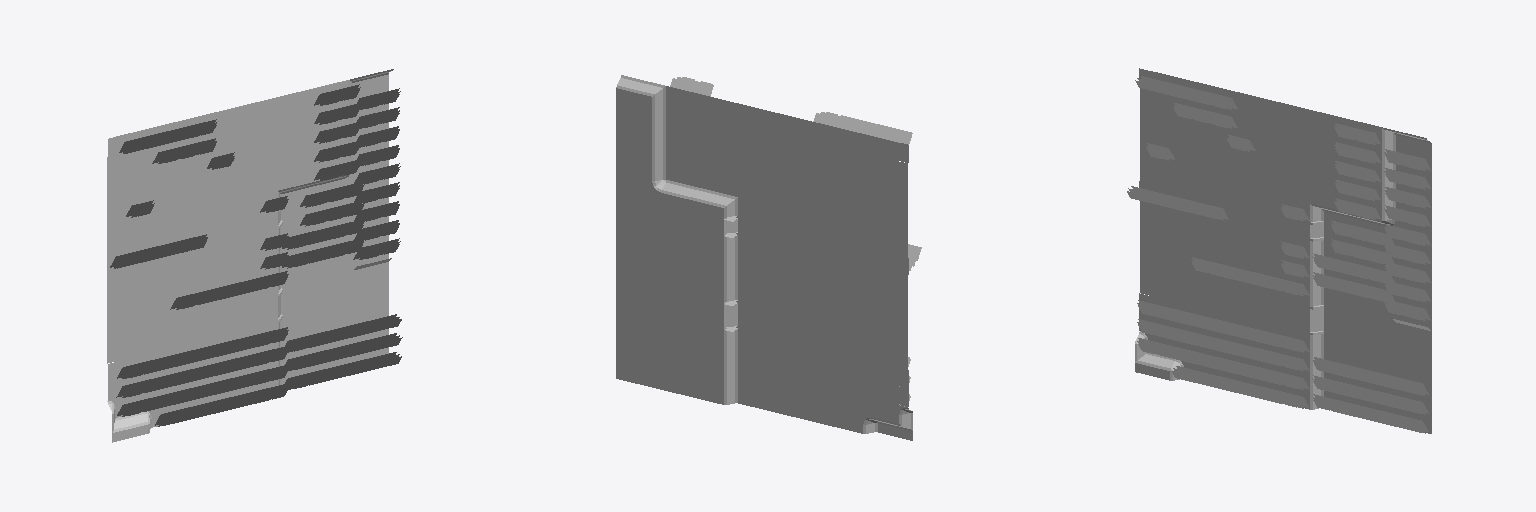
The model's file is Plat_full_19_12.obj.
3 views of the same model, side by side, from view 1: azimuth 30°, elevation 25°; view 2: azimuth 150°, elevation 25°; view 3: azimuth 330°, elevation 25° (orthographic).
Visible parts, largest first — view 1: map; view 2: map; view 3: map.
Boxes of the visible parts, <box> form: map: <box>107,69,402,442</box>; map: <box>616,75,921,440</box>; map: <box>1127,68,1431,433</box>.
Size of the model in its own units: 32.25 by 32.12 by 3.64.